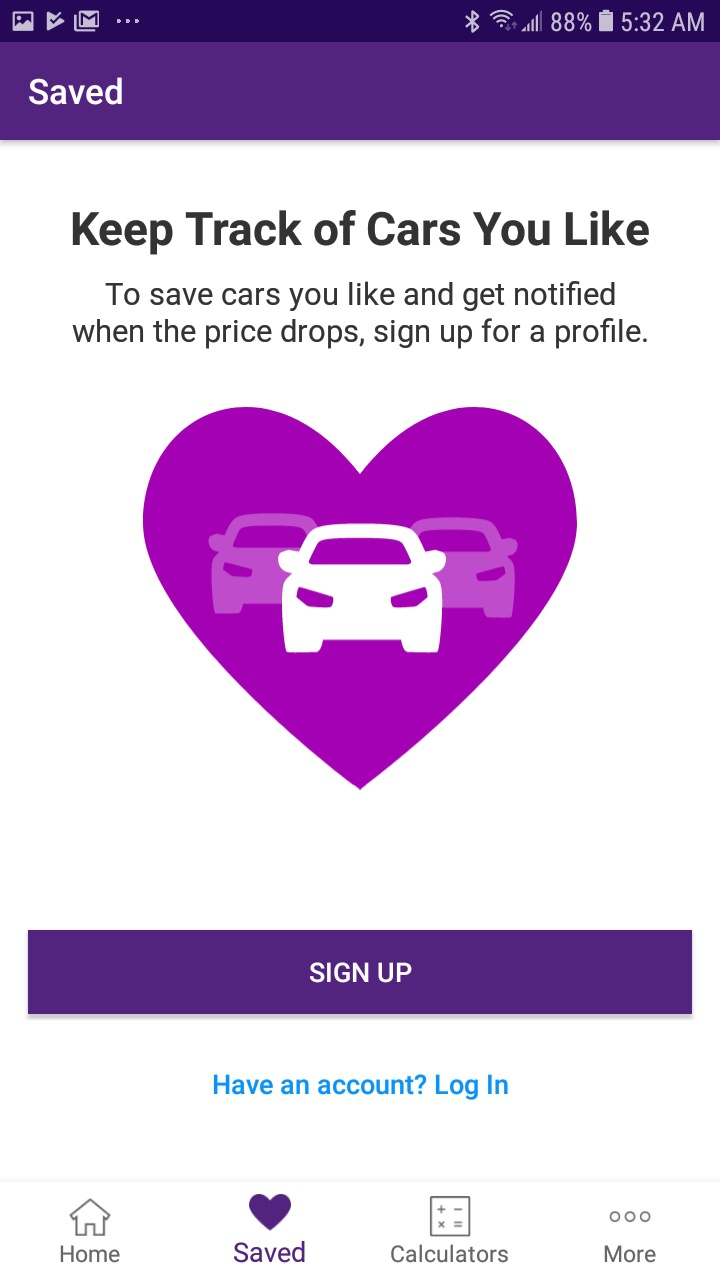Icon: (70, 1197, 112, 1236), (249, 1193, 292, 1231)
Image: (142, 406, 578, 790), (430, 1195, 471, 1237)
PageIndicator: (609, 1211, 651, 1223)
Text: (73, 281, 648, 351), (73, 210, 650, 256), (214, 1073, 509, 1101), (30, 77, 124, 107), (391, 1243, 509, 1263), (234, 1240, 306, 1263), (61, 1244, 121, 1263), (604, 1244, 656, 1263)
TextButton: (28, 930, 692, 1015)
UpperTaskBar: (1, 1, 720, 43)
